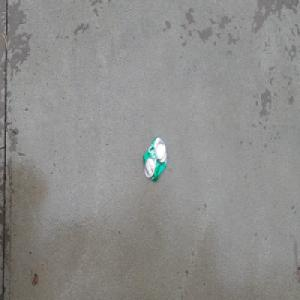SodaCan: (142, 135, 168, 183)
